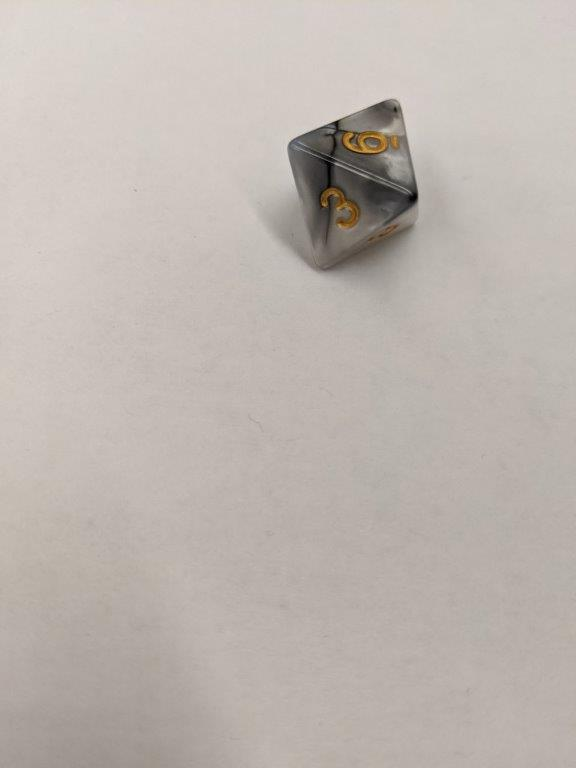d8-6: (284, 99, 419, 273)
